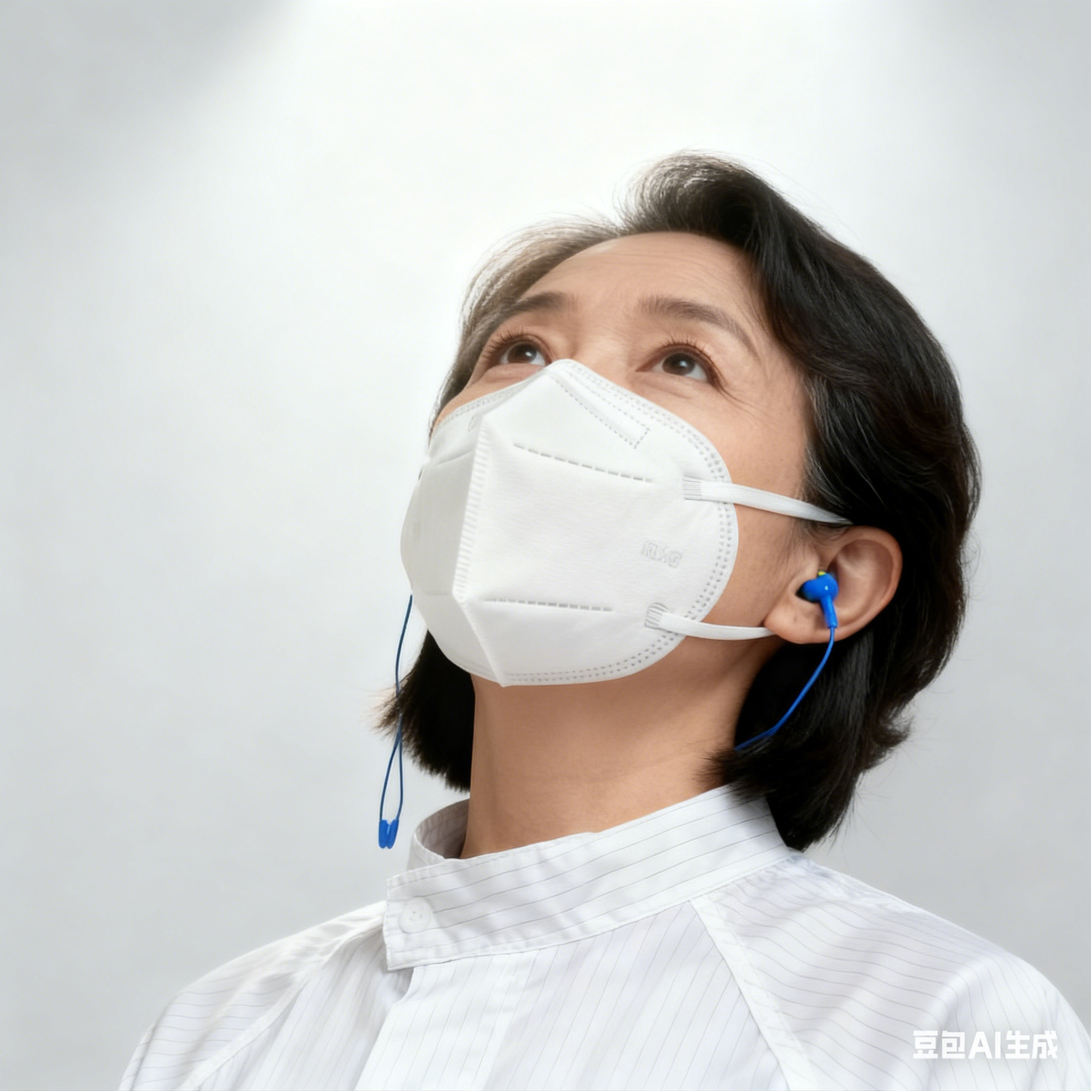MASK: (403, 352, 742, 691)
